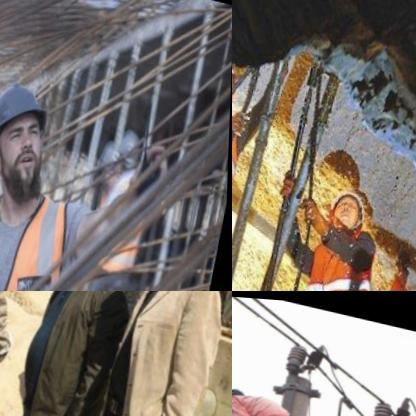helmet: (0, 62, 64, 199), (331, 182, 368, 230), (232, 48, 244, 115), (232, 378, 251, 415)
